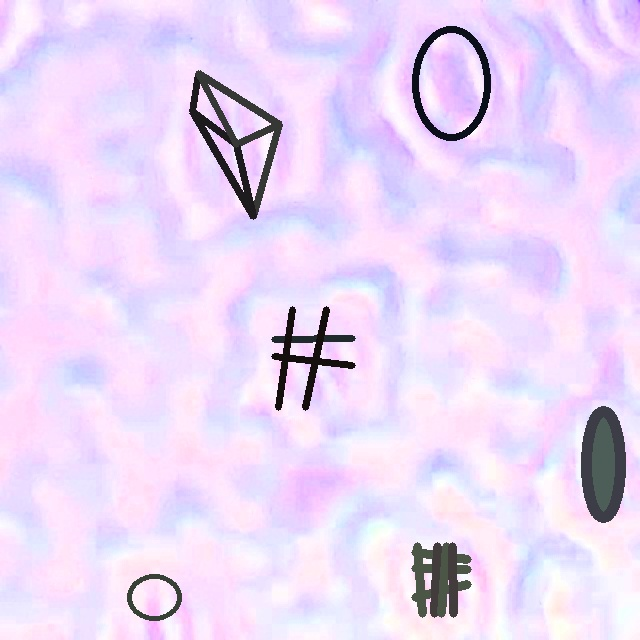close: (411, 542, 471, 617)
open: (189, 70, 282, 219), (411, 25, 491, 141), (271, 306, 355, 410), (581, 407, 625, 522), (126, 573, 183, 620)
